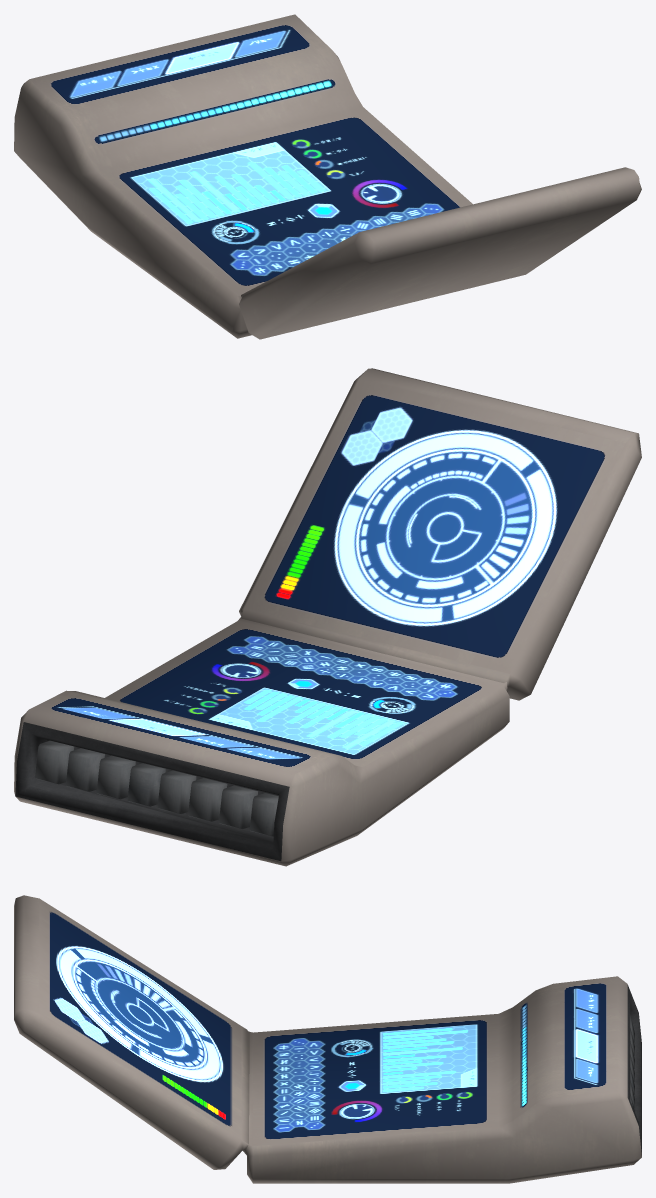
File: Hand_scanner.glb
The picture shows the model from 3 angles, top to bottom: view 1: azimuth 30°, elevation 25°; view 2: azimuth 150°, elevation 25°; view 3: azimuth 270°, elevation 25°; orthographic projection. The views are drawn at different scales.
Visible parts, largest first — view 1: hand_scanner, hand_scanner_lid; view 2: hand_scanner_lid, hand_scanner; view 3: hand_scanner, hand_scanner_lid.
Part boxes in pixels (<box>): hand_scanner: <box>14,14,472,338</box>; hand_scanner_lid: <box>239,167,641,339</box>; hand_scanner_lid: <box>239,368,641,700</box>; hand_scanner: <box>14,617,509,866</box>; hand_scanner: <box>242,976,641,1183</box>; hand_scanner_lid: <box>14,895,249,1169</box>.
Size of the model in its own units: 0.069 by 0.0466 by 0.1518.
Materials: 1 (1 with a texture image).
